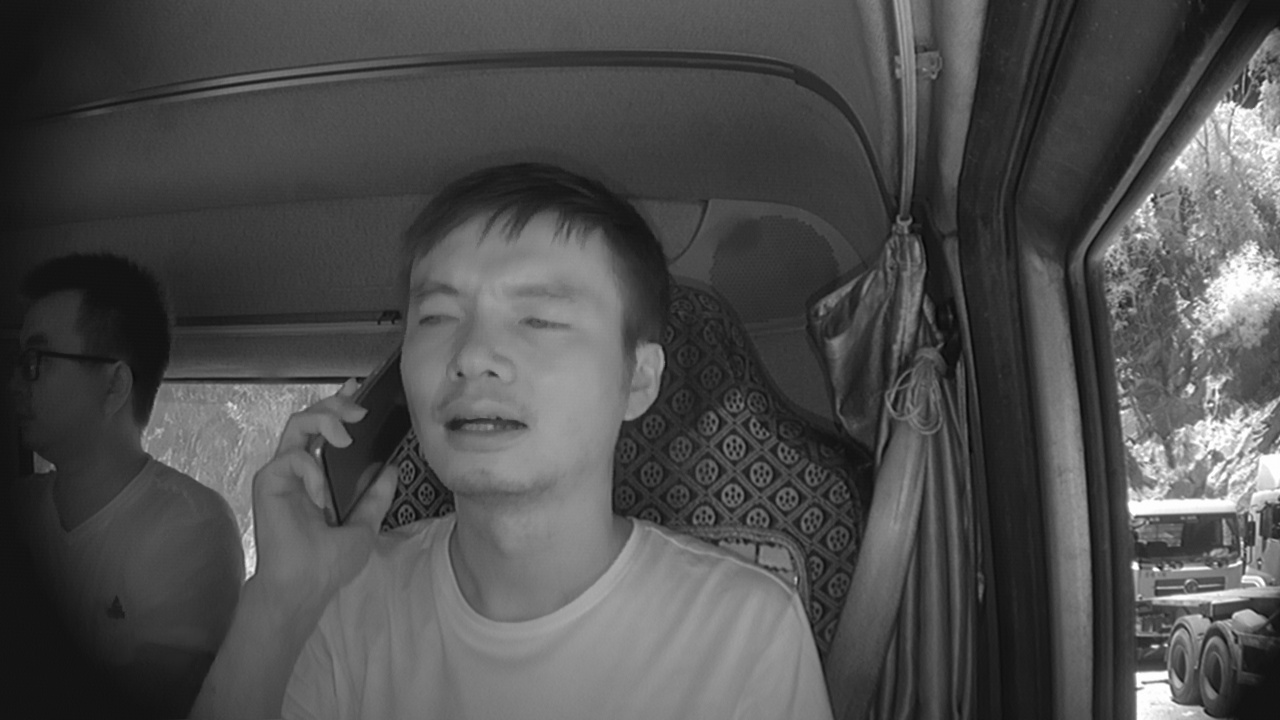hand: (240, 371, 402, 580)
